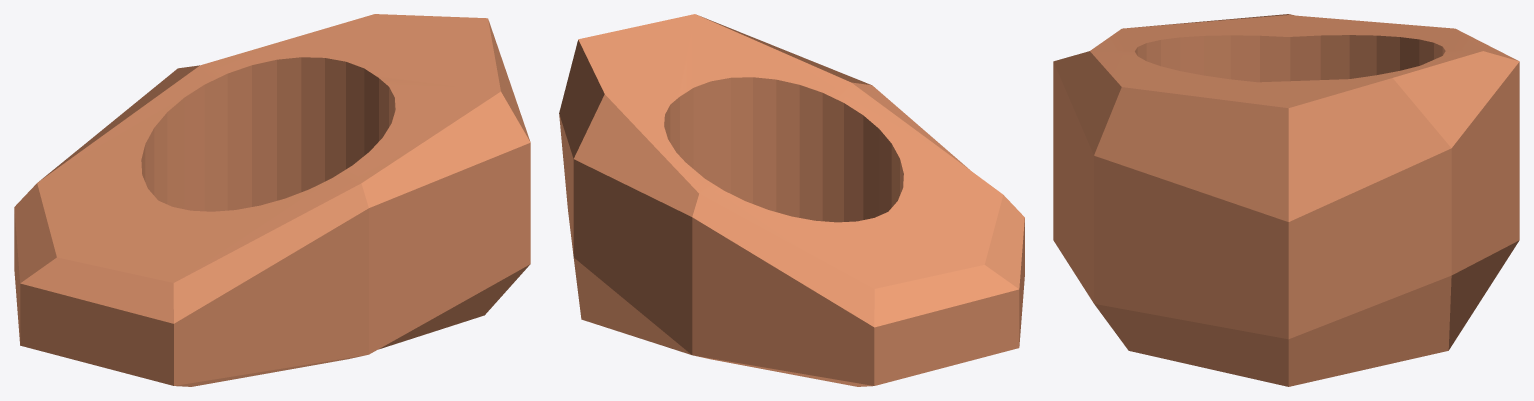
Rendered from HoledStone.fbx.
3 views of the same model, side by side, from view 1: azimuth 30°, elevation 25°; view 2: azimuth 150°, elevation 25°; view 3: azimuth 270°, elevation 25° (orthographic). The views are drawn at different scales.
Parts seen in each view (by area): view 1: Stone001; view 2: Stone001; view 3: Stone001.
Part boxes in pixels (box(x1,y1,x2,y2)): Stone001: box(14, 14, 530, 386); Stone001: box(559, 14, 1024, 386); Stone001: box(1053, 14, 1519, 386).
Bounding box in the file's own units: 442 × 201 × 300.
